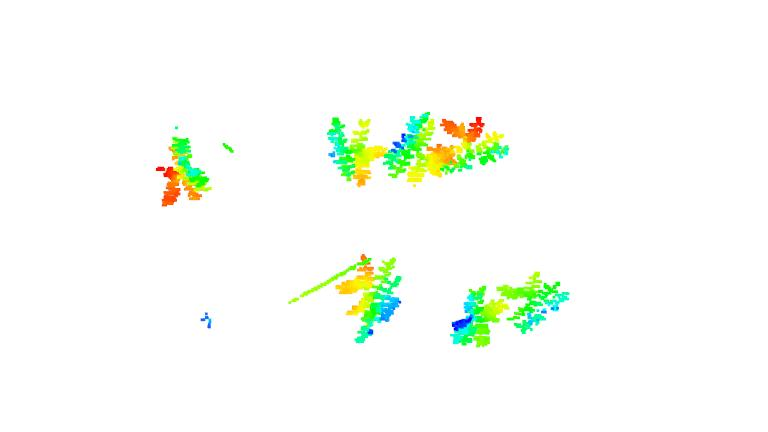chickpea: (338, 253, 402, 339), (322, 114, 387, 190), (433, 115, 510, 178), (151, 134, 214, 211), (496, 271, 564, 338), (382, 109, 437, 186), (446, 285, 505, 350)
